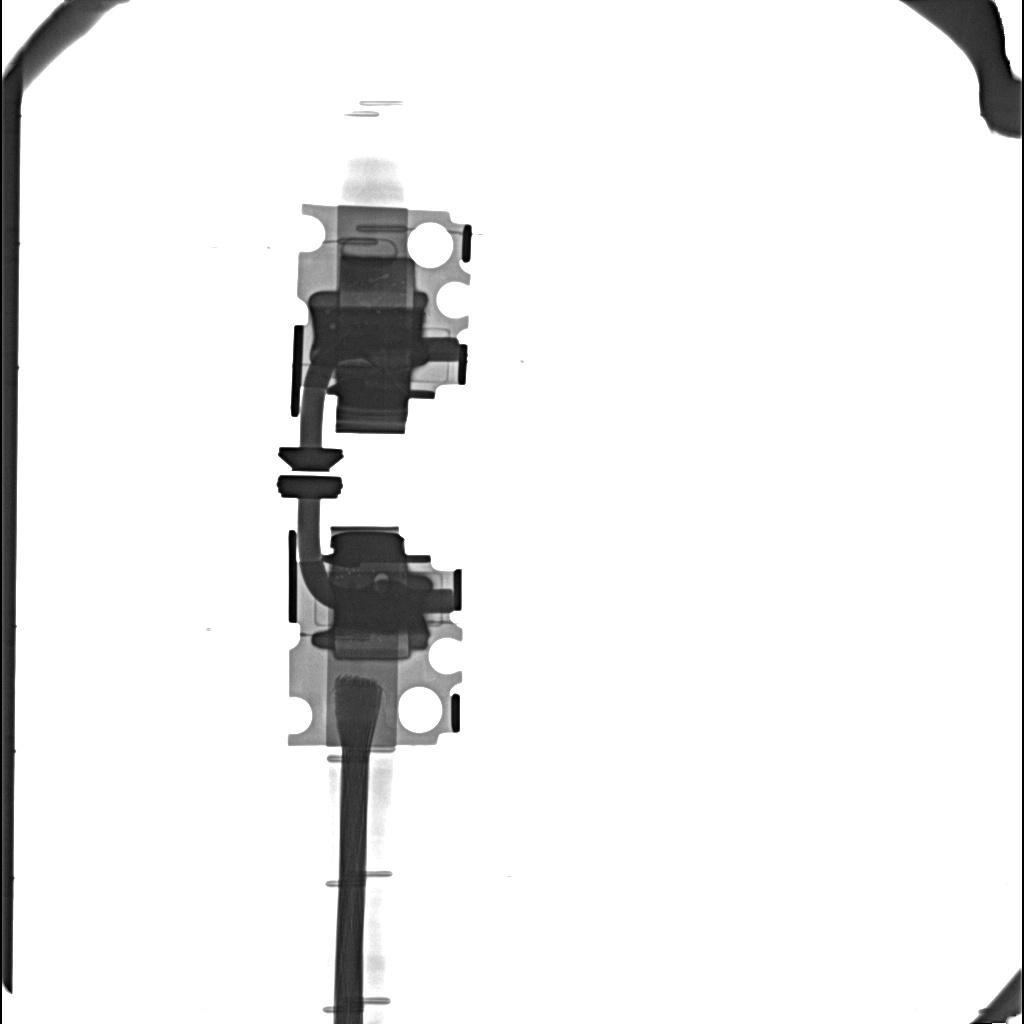PX: (337, 255, 417, 305), (332, 627, 411, 660)
QP: (374, 572, 390, 581)
SX: (312, 306, 423, 363), (335, 587, 425, 633)
